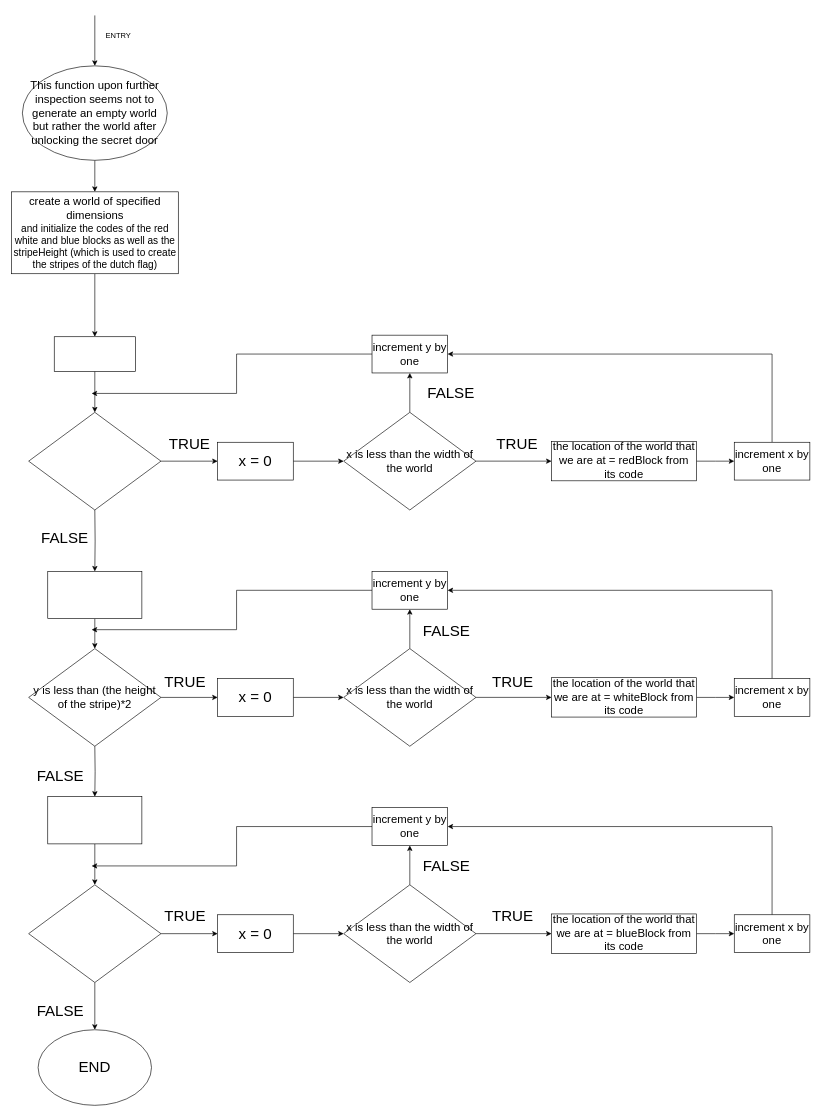
This 821x1116 diagram has some shape labels left out. Each missing label, with the centre of its shape:
y = (the height of the stripe)*2: (x=94, y=820)
y = 0: (x=94, y=353)
y = the height of the stripe: (x=94, y=595)
y is less than the height of the stripe: (x=94, y=461)
y is less than the height of the world: (x=94, y=933)
